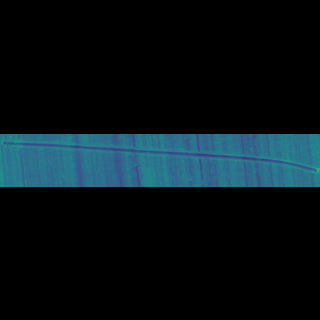Loch: (4, 156, 320, 162)
